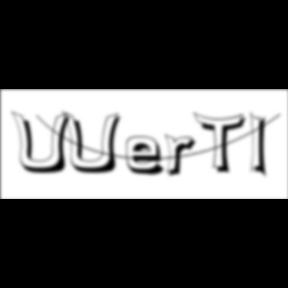I: (250, 110, 274, 182)
T: (194, 112, 252, 176)
U: (12, 110, 76, 176), (62, 110, 126, 176)
e: (126, 135, 172, 178)
r: (165, 134, 203, 180)
